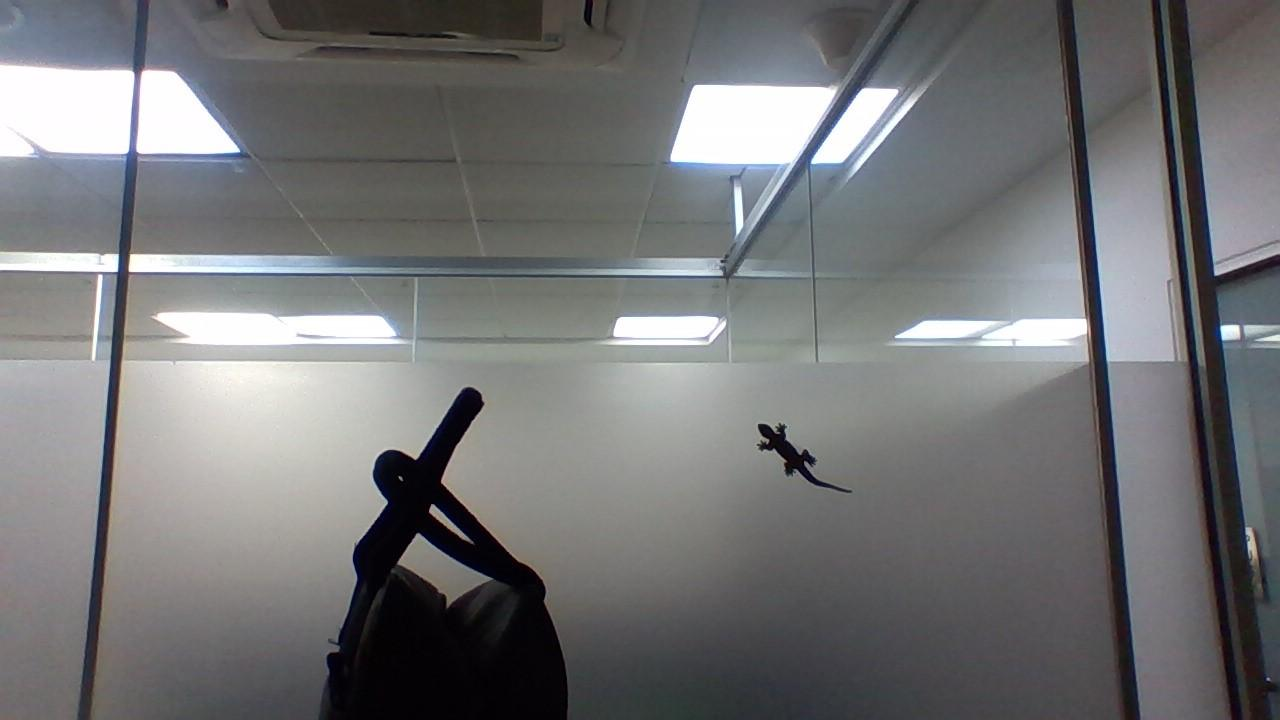lizard: (746, 415, 862, 511)
